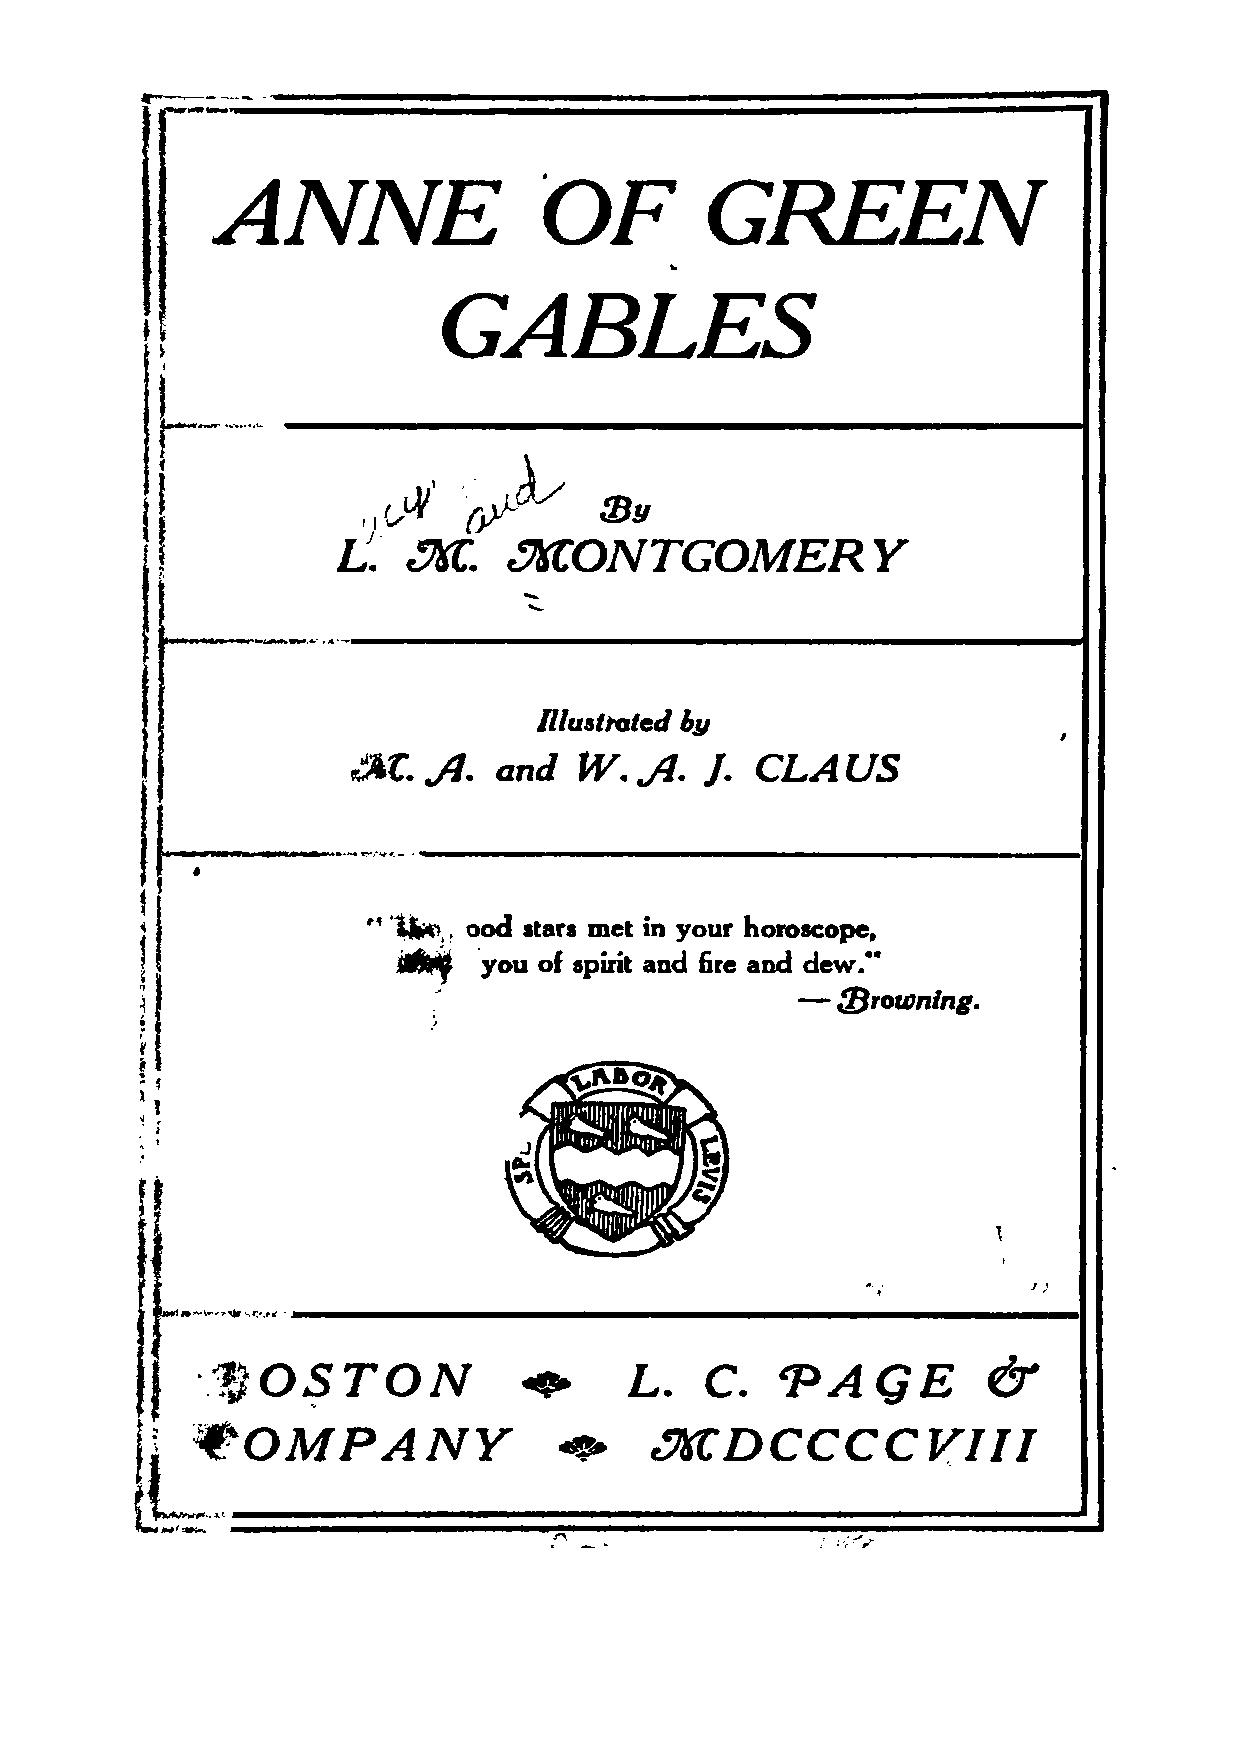author: (331, 493, 911, 577)
title: (207, 176, 1048, 360)
